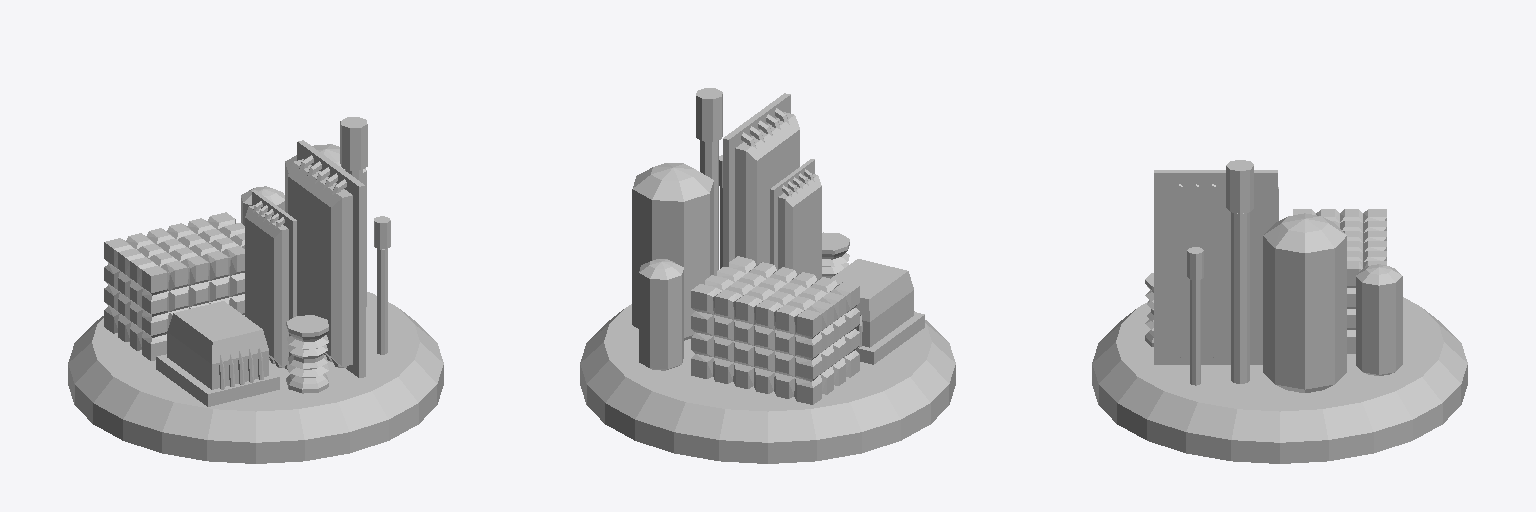
The model's file is obj_interactive_magnetic.obj.
3 views of the same model, side by side, from view 1: azimuth 30°, elevation 25°; view 2: azimuth 150°, elevation 25°; view 3: azimuth 270°, elevation 25° (orthographic).
Parts seen in each view (by area): view 1: Cylinder001; view 2: Cylinder001; view 3: Cylinder001.
Part boxes in pixels (x1,y1,x2,y2): Cylinder001: (68, 117, 443, 463); Cylinder001: (580, 88, 955, 463); Cylinder001: (1092, 160, 1467, 463).
Size of the model in its own units: 0.8 by 0.6049 by 0.8.